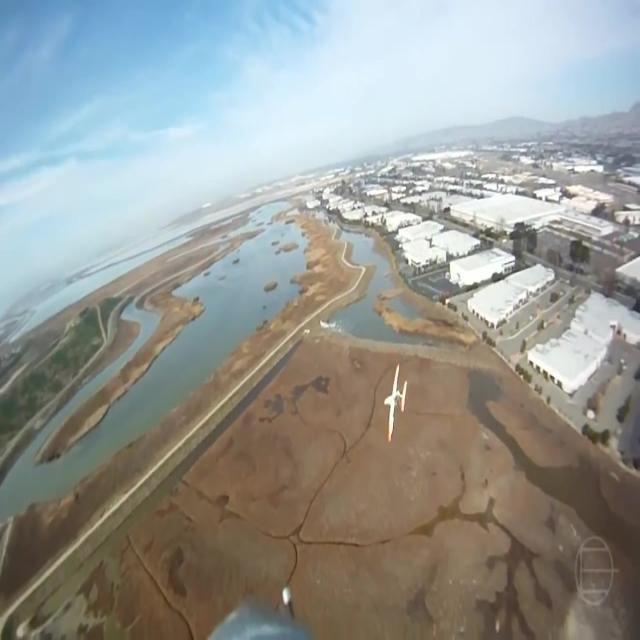iha: (376, 393, 402, 412)
